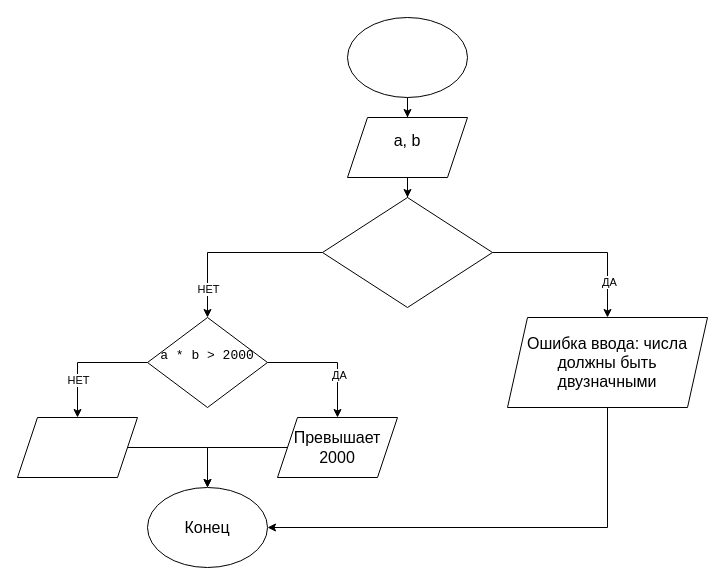
Image size: 725x585. Some labels were removed from this diagram. The box of each missing label's shape, as (x1, y1, x2, y2) in pixels:
a < 10 или a > 99 или b < 10 или b > 99: (322, 196, 492, 308)
Начало: (346, 16, 468, 98)
Не превышает 2000: (16, 416, 138, 478)
